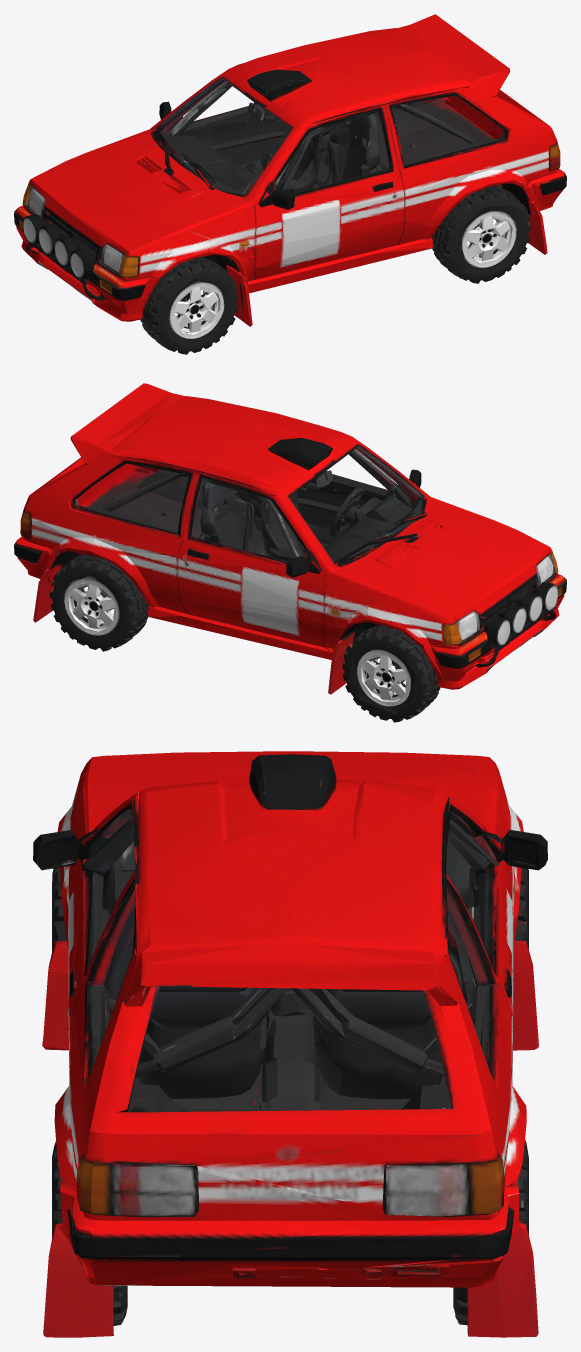
File: rally_car.glb
The picture shows the model from 3 angles, top to bottom: view 1: azimuth 30°, elevation 25°; view 2: azimuth 150°, elevation 25°; view 3: azimuth 270°, elevation 25°; orthographic projection. The views are drawn at different scales.
Bounding box in the file's own units: 1.9 × 0.7816 × 0.9115.
1 material, 1 textured.
